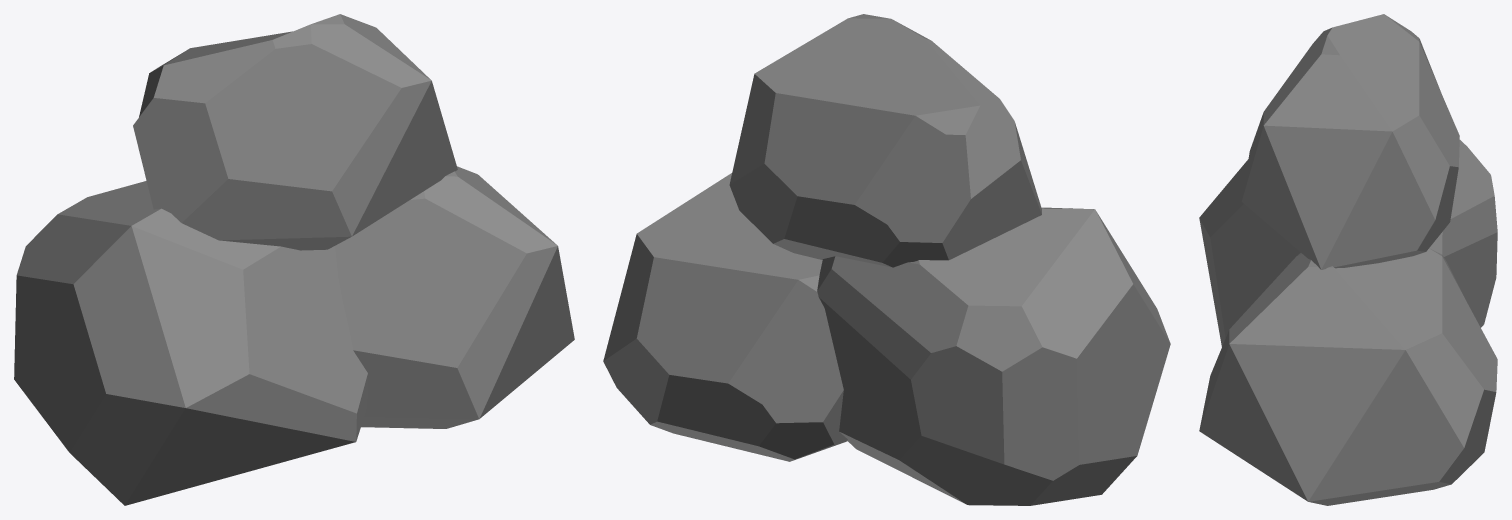
Rendered from RockBundle 2.fbx.
The picture shows the model from 3 angles, left to right: view 1: azimuth 30°, elevation 25°; view 2: azimuth 150°, elevation 25°; view 3: azimuth 270°, elevation 25°; orthographic projection. The views are drawn at different scales.
Visible parts, largest first — view 1: Icosphere.003; view 2: Icosphere.003; view 3: Icosphere.003.
Part boxes in pixels (x1,y1,x2,y2): Icosphere.003: (14, 14, 574, 505); Icosphere.003: (603, 14, 1170, 505); Icosphere.003: (1199, 14, 1497, 505).
Size of the model in its own units: 0.7846 by 0.6456 by 0.4336.
